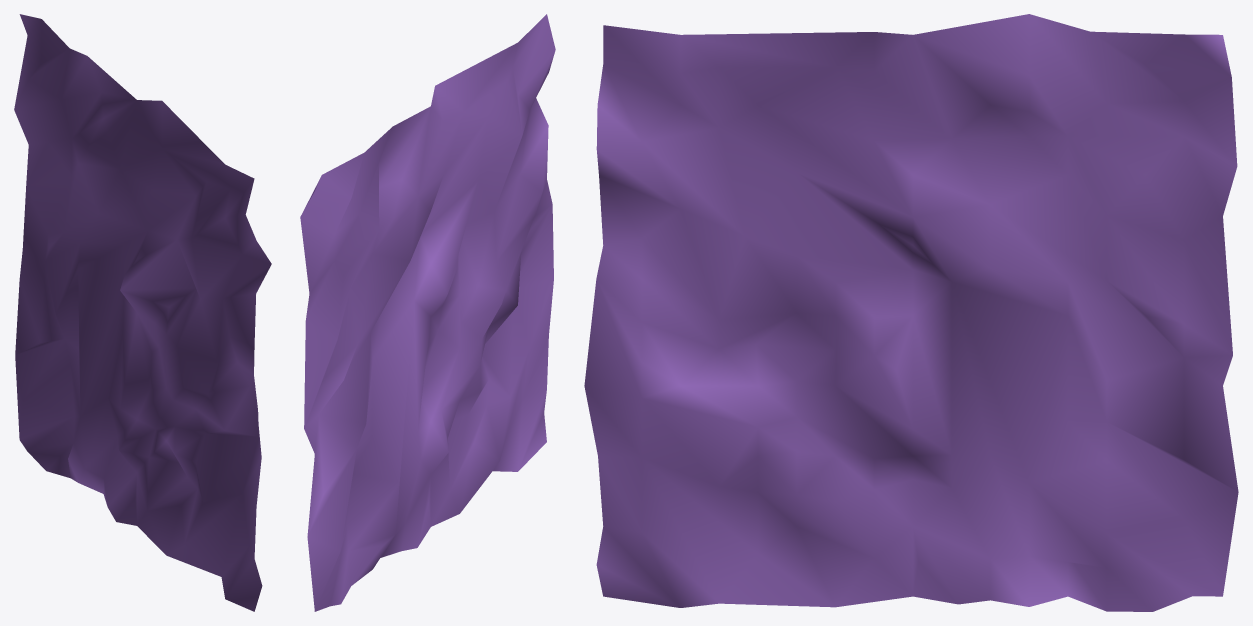
Rendered from scene_7_rock_wall.fbx.
3 renders of one model, left to right at view 1: azimuth 30°, elevation 25°; view 2: azimuth 150°, elevation 25°; view 3: azimuth 270°, elevation 25°, orthographic. The views are drawn at different scales.
Parts seen in each view (by area): view 1: Plane; view 2: Plane; view 3: Plane.
Part boxes in pixels (box(x1,y1,x2,y2)): Plane: box(14, 14, 271, 611); Plane: box(300, 14, 555, 611); Plane: box(584, 14, 1238, 611).
Bounding box in the file's own units: 1.32 × 14.94 × 14.9.
